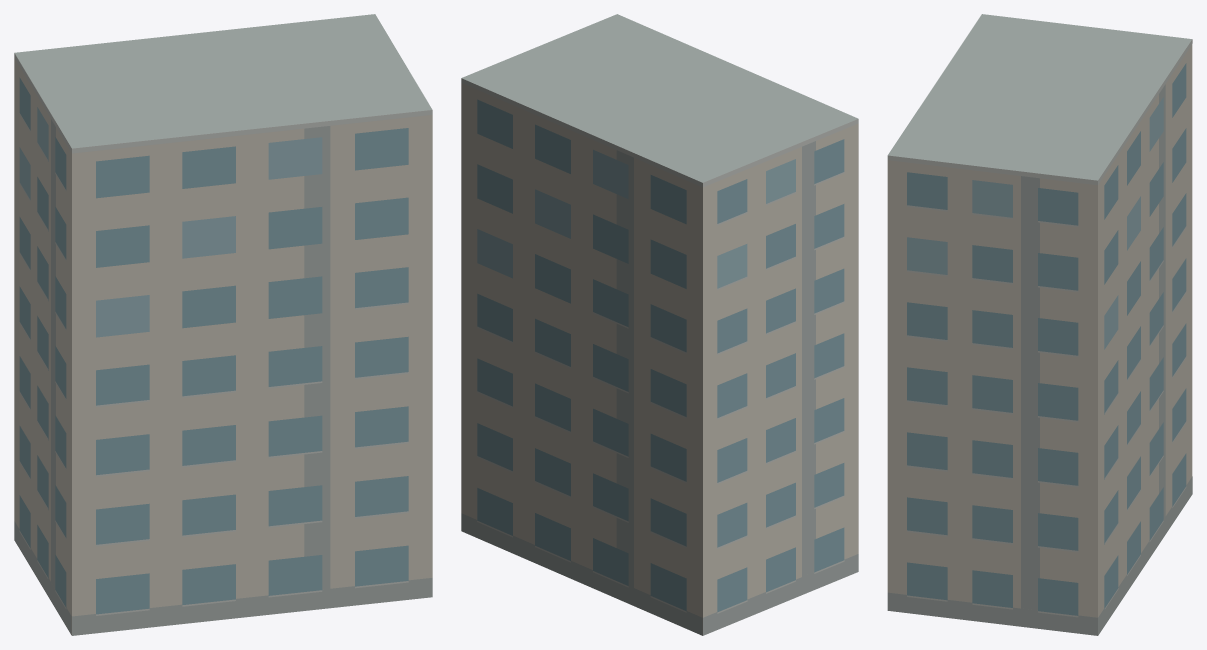
Rendered from survey-upis-32872853.glb.
The picture shows the model from 3 angles, left to right: view 1: azimuth 30°, elevation 25°; view 2: azimuth 150°, elevation 25°; view 3: azimuth 270°, elevation 25°; orthographic projection. The views are drawn at different scales.
Parts seen in each view (by area): view 1: survey-upis-32872853.tmp; view 2: survey-upis-32872853.tmp; view 3: survey-upis-32872853.tmp.
Part boxes in pixels (bbox=[...]): survey-upis-32872853.tmp: bbox=[14, 14, 432, 635]; survey-upis-32872853.tmp: bbox=[461, 14, 858, 635]; survey-upis-32872853.tmp: bbox=[887, 14, 1192, 635].
Bounding box in the file's own units: 18.93 × 24.1 × 14.63.
